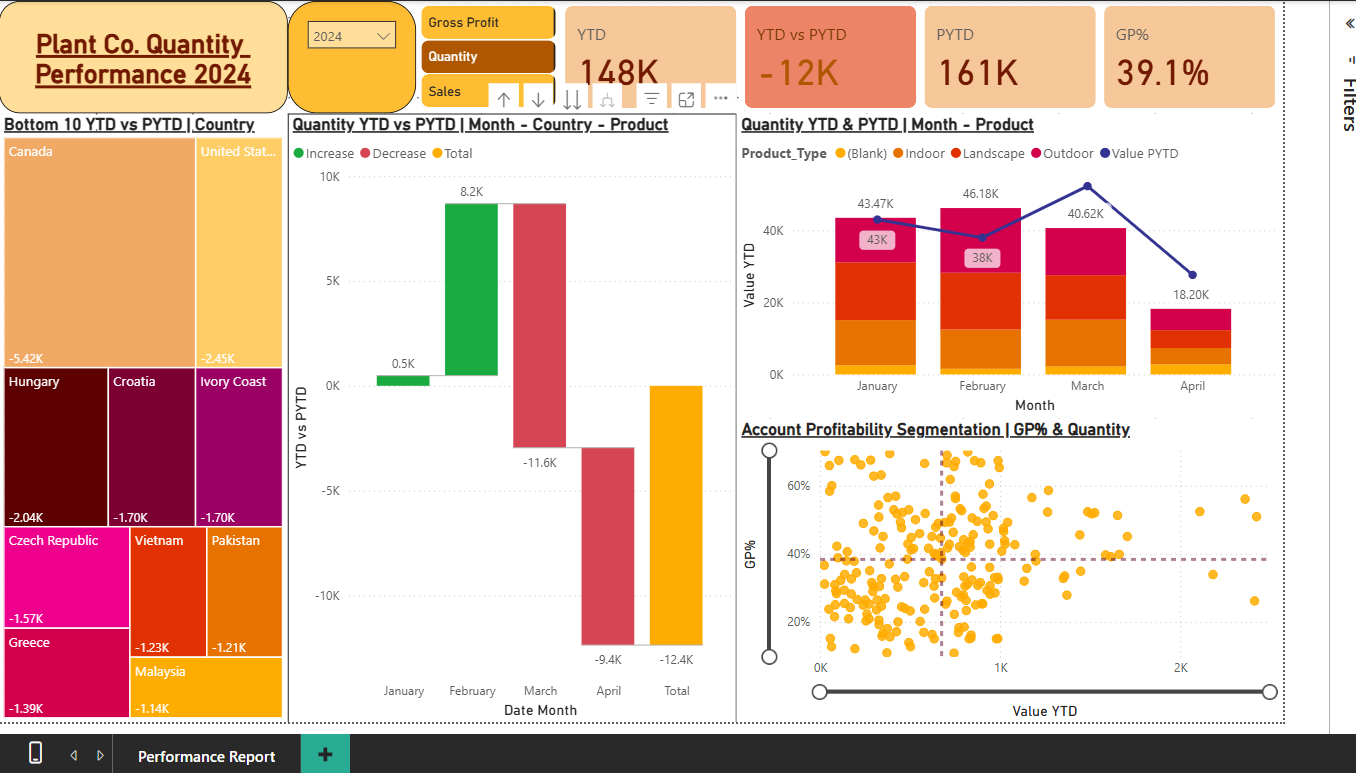

The dashboard page shown, as its layout file describes it:
{"tool":"powerbi","page":{"name":"Performance Report","canvas":[1280,720],"ordinal":0},"visuals":[{"type":"cardVisual","fields":{"Data":["_Measures.Switch_YTD","_Measures.YTD vs PYTD","_Measures.Switch_PYTD","_Measures.GP%"]},"box":[560,0,720,112],"z":0},{"type":"advancedSlicerVisual","fields":{"Values":["Slicer_Values.Values"]},"box":[416,0,144,112],"z":1000},{"type":"slicer","fields":{"Values":["Dim_Date.Date.Variation.Date Hierarchy.Year"]},"box":[288,0,128,112],"z":2000},{"type":"treemap","title":"Bottom 10 YTD vs PYTD | Country","fields":{"Values":["_Measures.YTD vs PYTD"],"Group":["Dimesion_Account.Country"]},"box":[0,112,288,608],"z":3000},{"type":"waterfallChart","fields":{"Y":["_Measures.YTD vs PYTD"],"Category":["Dimesion_Account.Country","Dim_Date.Date.Variation.Date Hierarchy.Month","Dimension_Product.Produt_Type","Dimension_Product.Product_Name"]},"box":[288,112,448,608],"z":4000},{"type":"lineStackedColumnComboChart","fields":{"Y":["_Measures.Switch_YTD"],"Y2":["_Measures.Switch_PYTD"],"Category":["Dim_Date.Date.Variation.Date Hierarchy.Quarter","Dim_Date.Date.Variation.Date Hierarchy.Month"],"Series":["Dimension_Product.Produt_Type"]},"box":[736,112,544,304],"z":5000},{"type":"scatterChart","fields":{"Y":["_Measures.GP%"],"X":["_Measures.S_YTD"],"Category":["Dimesion_Account.Account"]},"box":[736,416,544,304],"z":6000},{"type":"card","fields":{"Values":["_Measures._Report title"]},"box":[0,0,288,112],"z":6001}]}

Visuals, with their boxes in screenshot pixels (x1, y1, x2, y2):
cardVisual - _Measures.Switch_YTD x _Measures.YTD vs PYTD: BBox(557, 4, 1283, 116)
advancedSlicerVisual - Slicer_Values.Values: BBox(412, 4, 557, 116)
slicer - Dim_Date.Date.Variation.Date Hierarchy.Year: BBox(283, 4, 412, 116)
"Bottom 10 YTD vs PYTD | Country" treemap: BBox(0, 116, 283, 729)
waterfallChart - _Measures.YTD vs PYTD x Dimesion_Account.Country: BBox(283, 116, 735, 729)
lineStackedColumnComboChart - _Measures.Switch_YTD x _Measures.Switch_PYTD: BBox(735, 116, 1283, 423)
scatterChart - _Measures.GP% x _Measures.S_YTD: BBox(735, 423, 1283, 729)
card - _Measures._Report title: BBox(0, 4, 283, 116)
